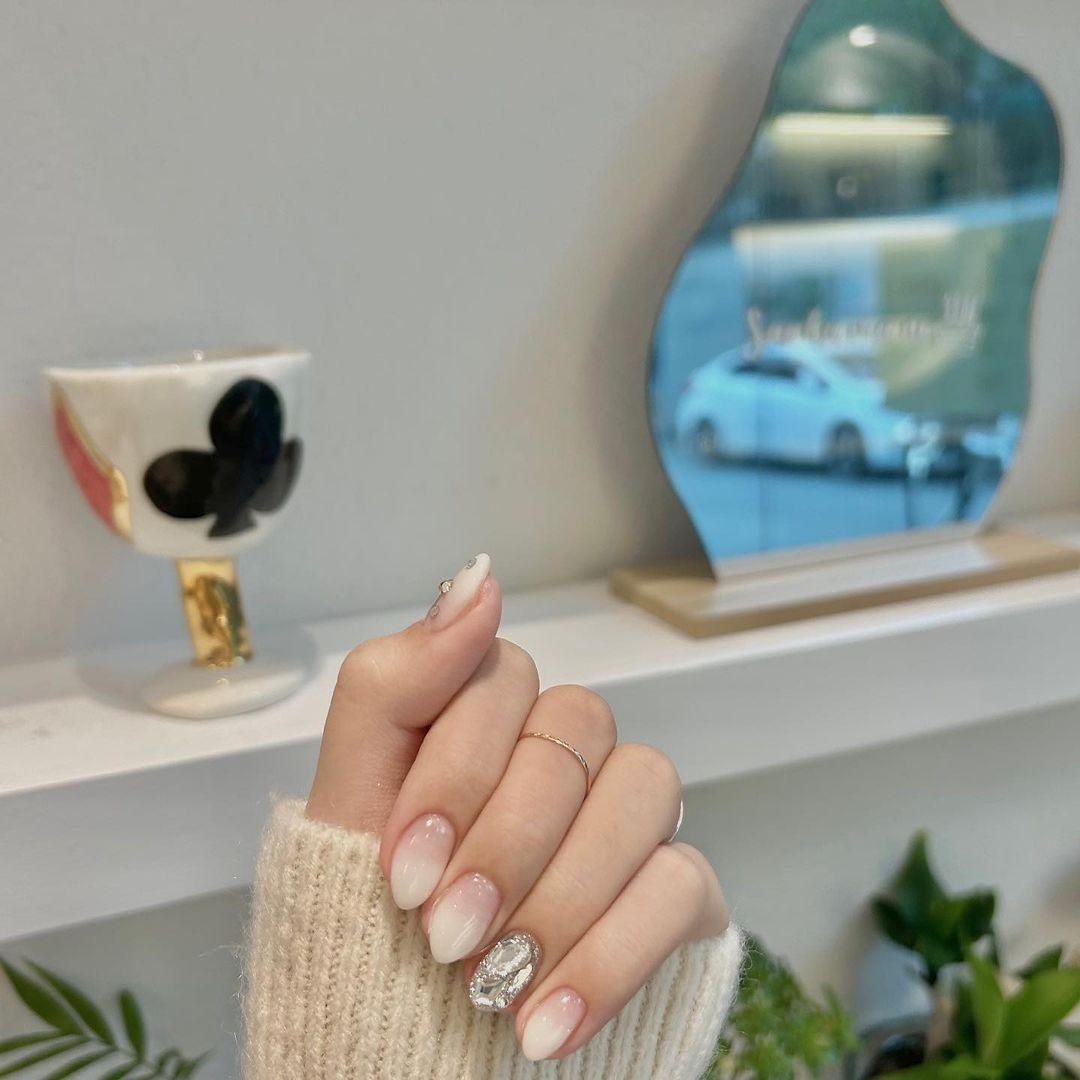nail: (425, 869, 501, 964), (388, 810, 455, 910), (467, 928, 541, 1012), (424, 550, 491, 630), (519, 985, 587, 1061)
